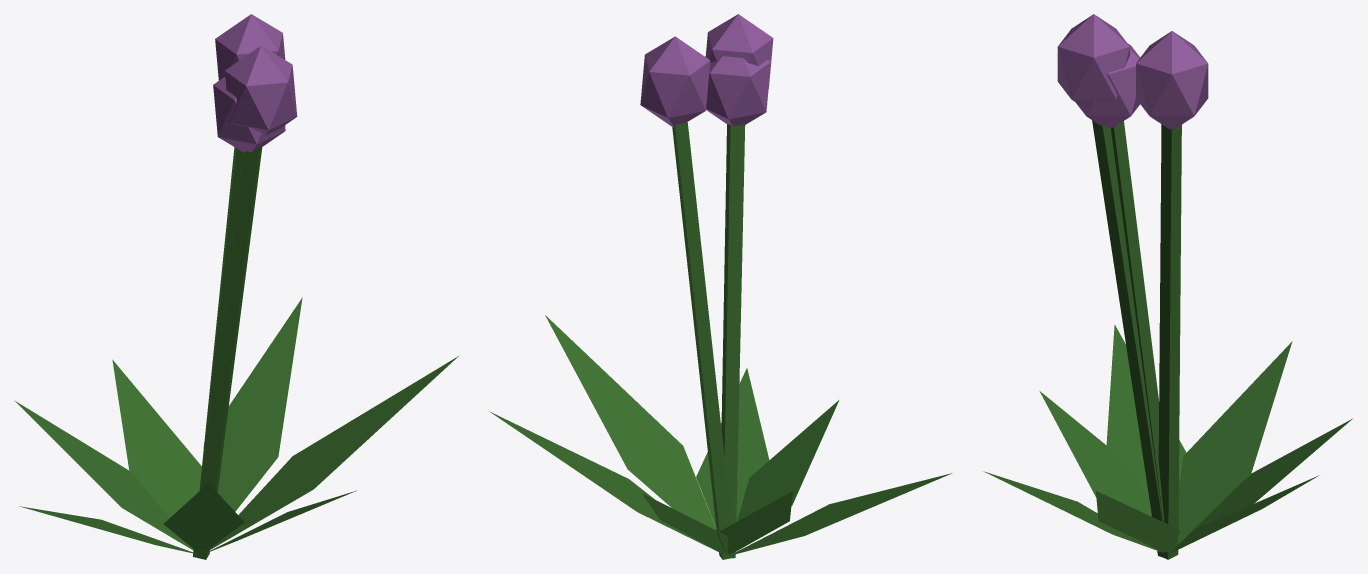
File: weed.glb
The picture shows the model from 3 angles, left to right: view 1: azimuth 30°, elevation 25°; view 2: azimuth 150°, elevation 25°; view 3: azimuth 270°, elevation 25°; orthographic projection. The views are drawn at different scales.
Visible parts, largest first — view 1: weed; view 2: weed; view 3: weed.
Boxes of the visible parts, <box> form: weed: <box>14,14,458,559</box>; weed: <box>489,14,952,559</box>; weed: <box>983,14,1352,559</box>.
Size of the model in its own units: 0.3064 by 0.3591 by 0.2183.
